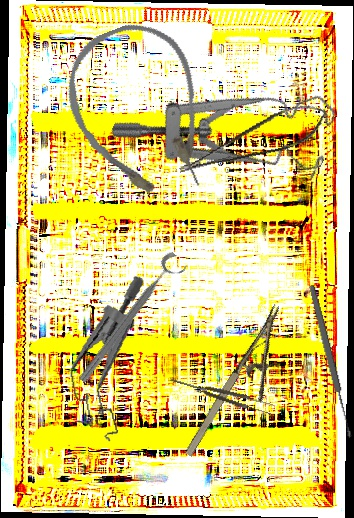Cannula: (48, 8, 232, 220)
Fixation Ring: (74, 249, 191, 392)
Micro Scissor: (171, 98, 333, 178)
Needle Holder: (180, 303, 310, 473)
Speculum: (109, 24, 347, 220), (53, 274, 171, 449)
Surgical Spoon: (307, 284, 354, 439)
Tissue Forceps: (169, 372, 274, 417)
